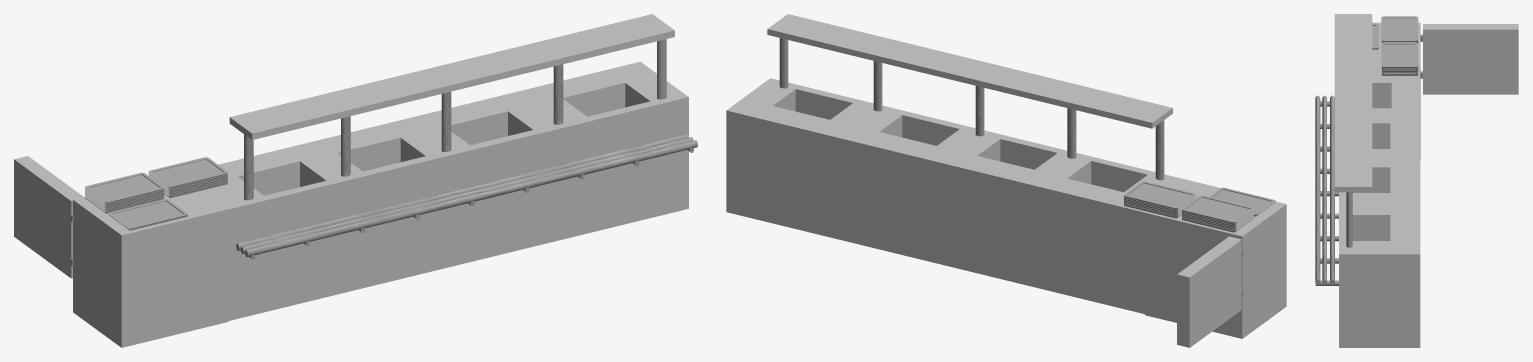
The model's file is CafeteriaAusgabe.fbx.
3 views of the same model, side by side, from view 1: azimuth 30°, elevation 25°; view 2: azimuth 150°, elevation 25°; view 3: azimuth 270°, elevation 25° (orthographic). The views are drawn at different scales.
Visible parts, largest first — view 1: pCube15, pCube13, pCube24, pCylinder16, pCylinder5, pCylinder15, pCube23, pCube26, pCube22, pCylinder1, pCylinder2, pCylinder19 (+2 smaller); view 2: pCube15, pCube13, pCube24, pCube22, pCube26, pCube23, pCylinder19, pCylinder1, pCylinder4, pCylinder2, pCylinder3; view 3: pCube15, pCube13, pCube24, pCylinder16, pCube22, pCube26, pCylinder5, pCylinder15, pCylinder4, pCube23.
Boxes of the visible parts, x1,y1,x2,y2 form: pCube15: (73, 61, 688, 347); pCube13: (229, 14, 674, 139); pCube24: (14, 156, 83, 278); pCylinder16: (245, 140, 697, 256); pCylinder5: (236, 134, 688, 250); pCylinder15: (241, 137, 693, 253); pCube23: (108, 199, 187, 230); pCube26: (148, 157, 227, 188); pCube22: (85, 172, 164, 203); pCylinder1: (553, 64, 563, 124); pCylinder2: (441, 91, 451, 151); pCylinder19: (244, 134, 253, 200); pCube15: (726, 78, 1286, 338); pCube13: (767, 14, 1172, 128); pCube24: (1177, 236, 1241, 347); pCube22: (1182, 195, 1253, 223); pCube26: (1124, 181, 1196, 209); pCube23: (1209, 187, 1275, 216); pCylinder19: (1155, 120, 1164, 180); pCylinder1: (873, 61, 882, 111); pCylinder4: (779, 38, 788, 88); pCylinder2: (975, 86, 984, 136); pCylinder3: (1067, 108, 1076, 158); pCube15: (1339, 22, 1420, 347); pCube13: (1334, 14, 1372, 192); pCube24: (1423, 24, 1518, 94); pCylinder16: (1315, 95, 1320, 285); pCube22: (1381, 16, 1418, 41); pCube26: (1381, 42, 1418, 68); pCylinder5: (1330, 95, 1334, 285); pCylinder15: (1322, 95, 1326, 285); pCylinder4: (1346, 188, 1352, 247); pCube23: (1372, 23, 1378, 49).
Bounding box in the file's own units: 41.5 × 12.91 × 15.32.
4 materials, 1 textured.
